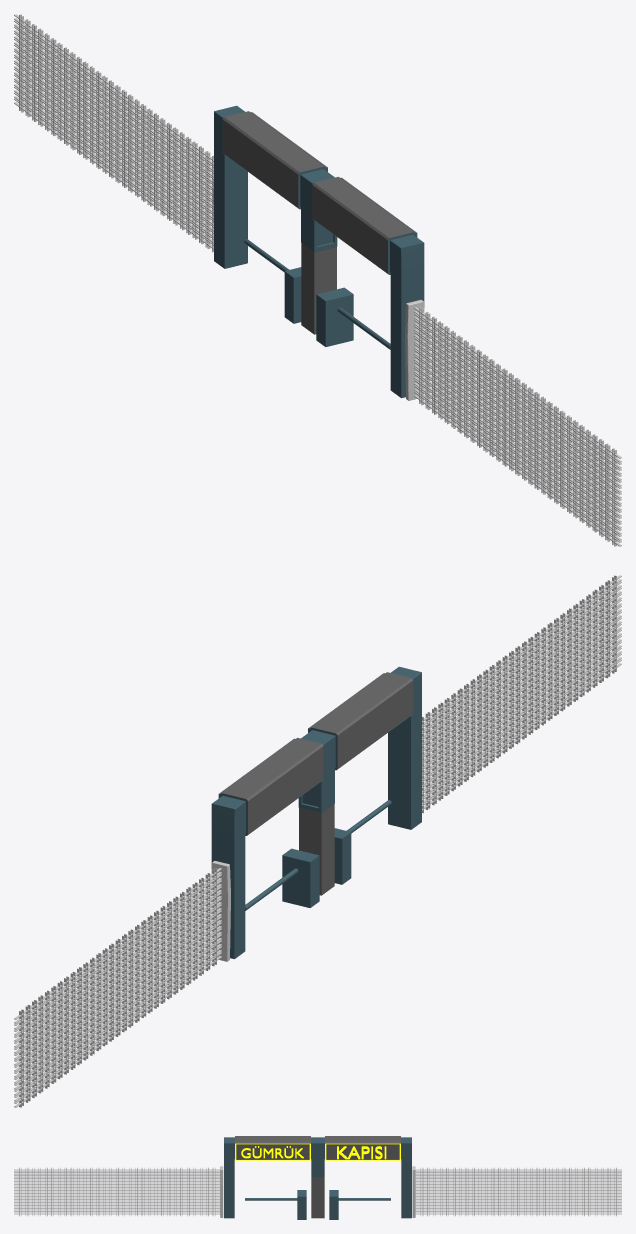
Rendered from gumruk_kaps (1).fbx.
3 views of the same model, one above another, from view 1: azimuth 30°, elevation 25°; view 2: azimuth 150°, elevation 25°; view 3: azimuth 270°, elevation 25° (orthographic). The views are drawn at different scales.
Parts seen in each view (by area): view 1: Plane.002; view 2: Plane.002; view 3: Plane.002.
Boxes of the visible parts, <box> form: Plane.002: <box>14,14,621,546</box>; Plane.002: <box>14,575,621,1107</box>; Plane.002: <box>14,1136,621,1219</box>.
Bounding box in the file's own units: 976 × 4319 × 30752.
